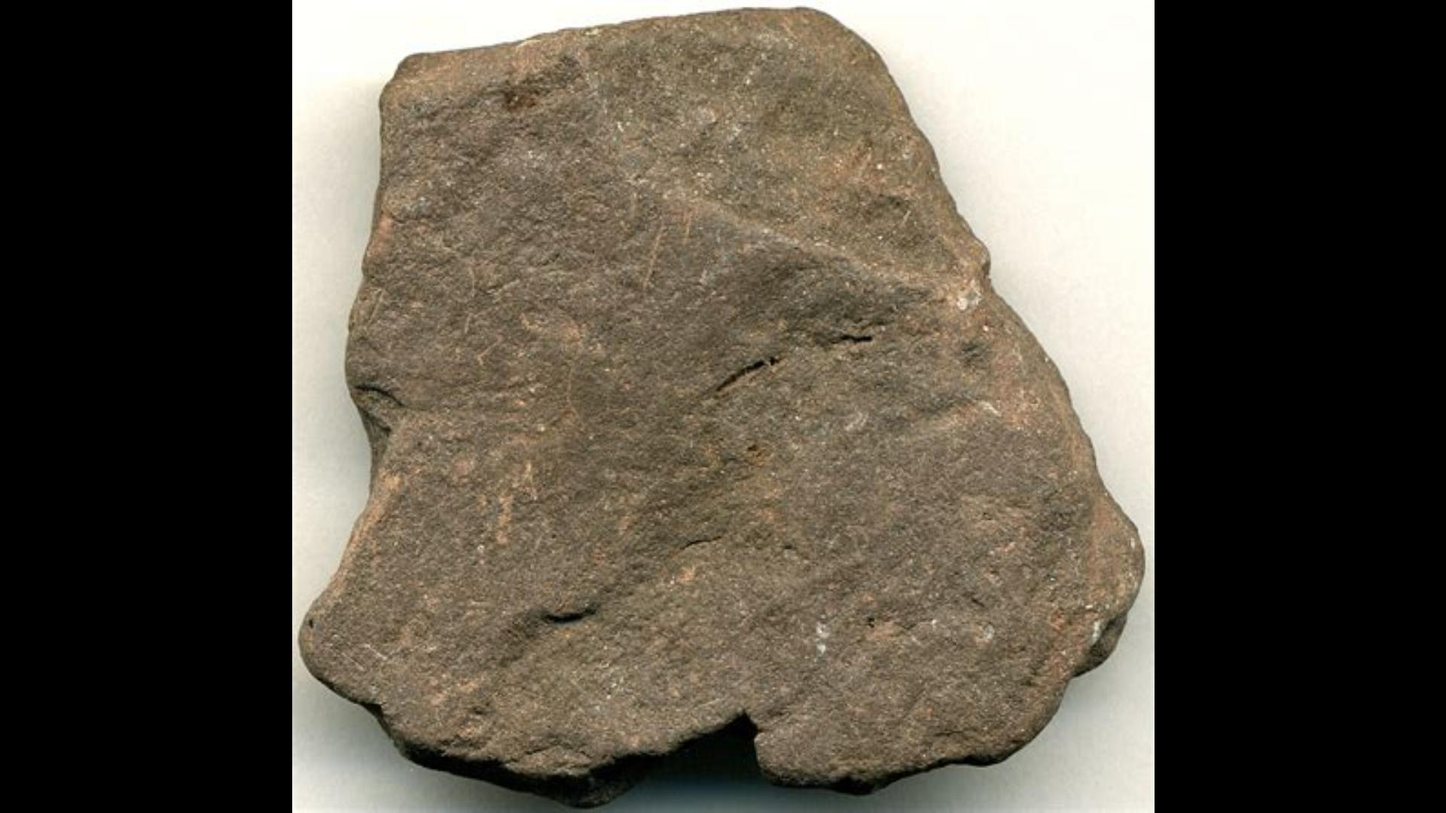rock: (299, 15, 1139, 806)
